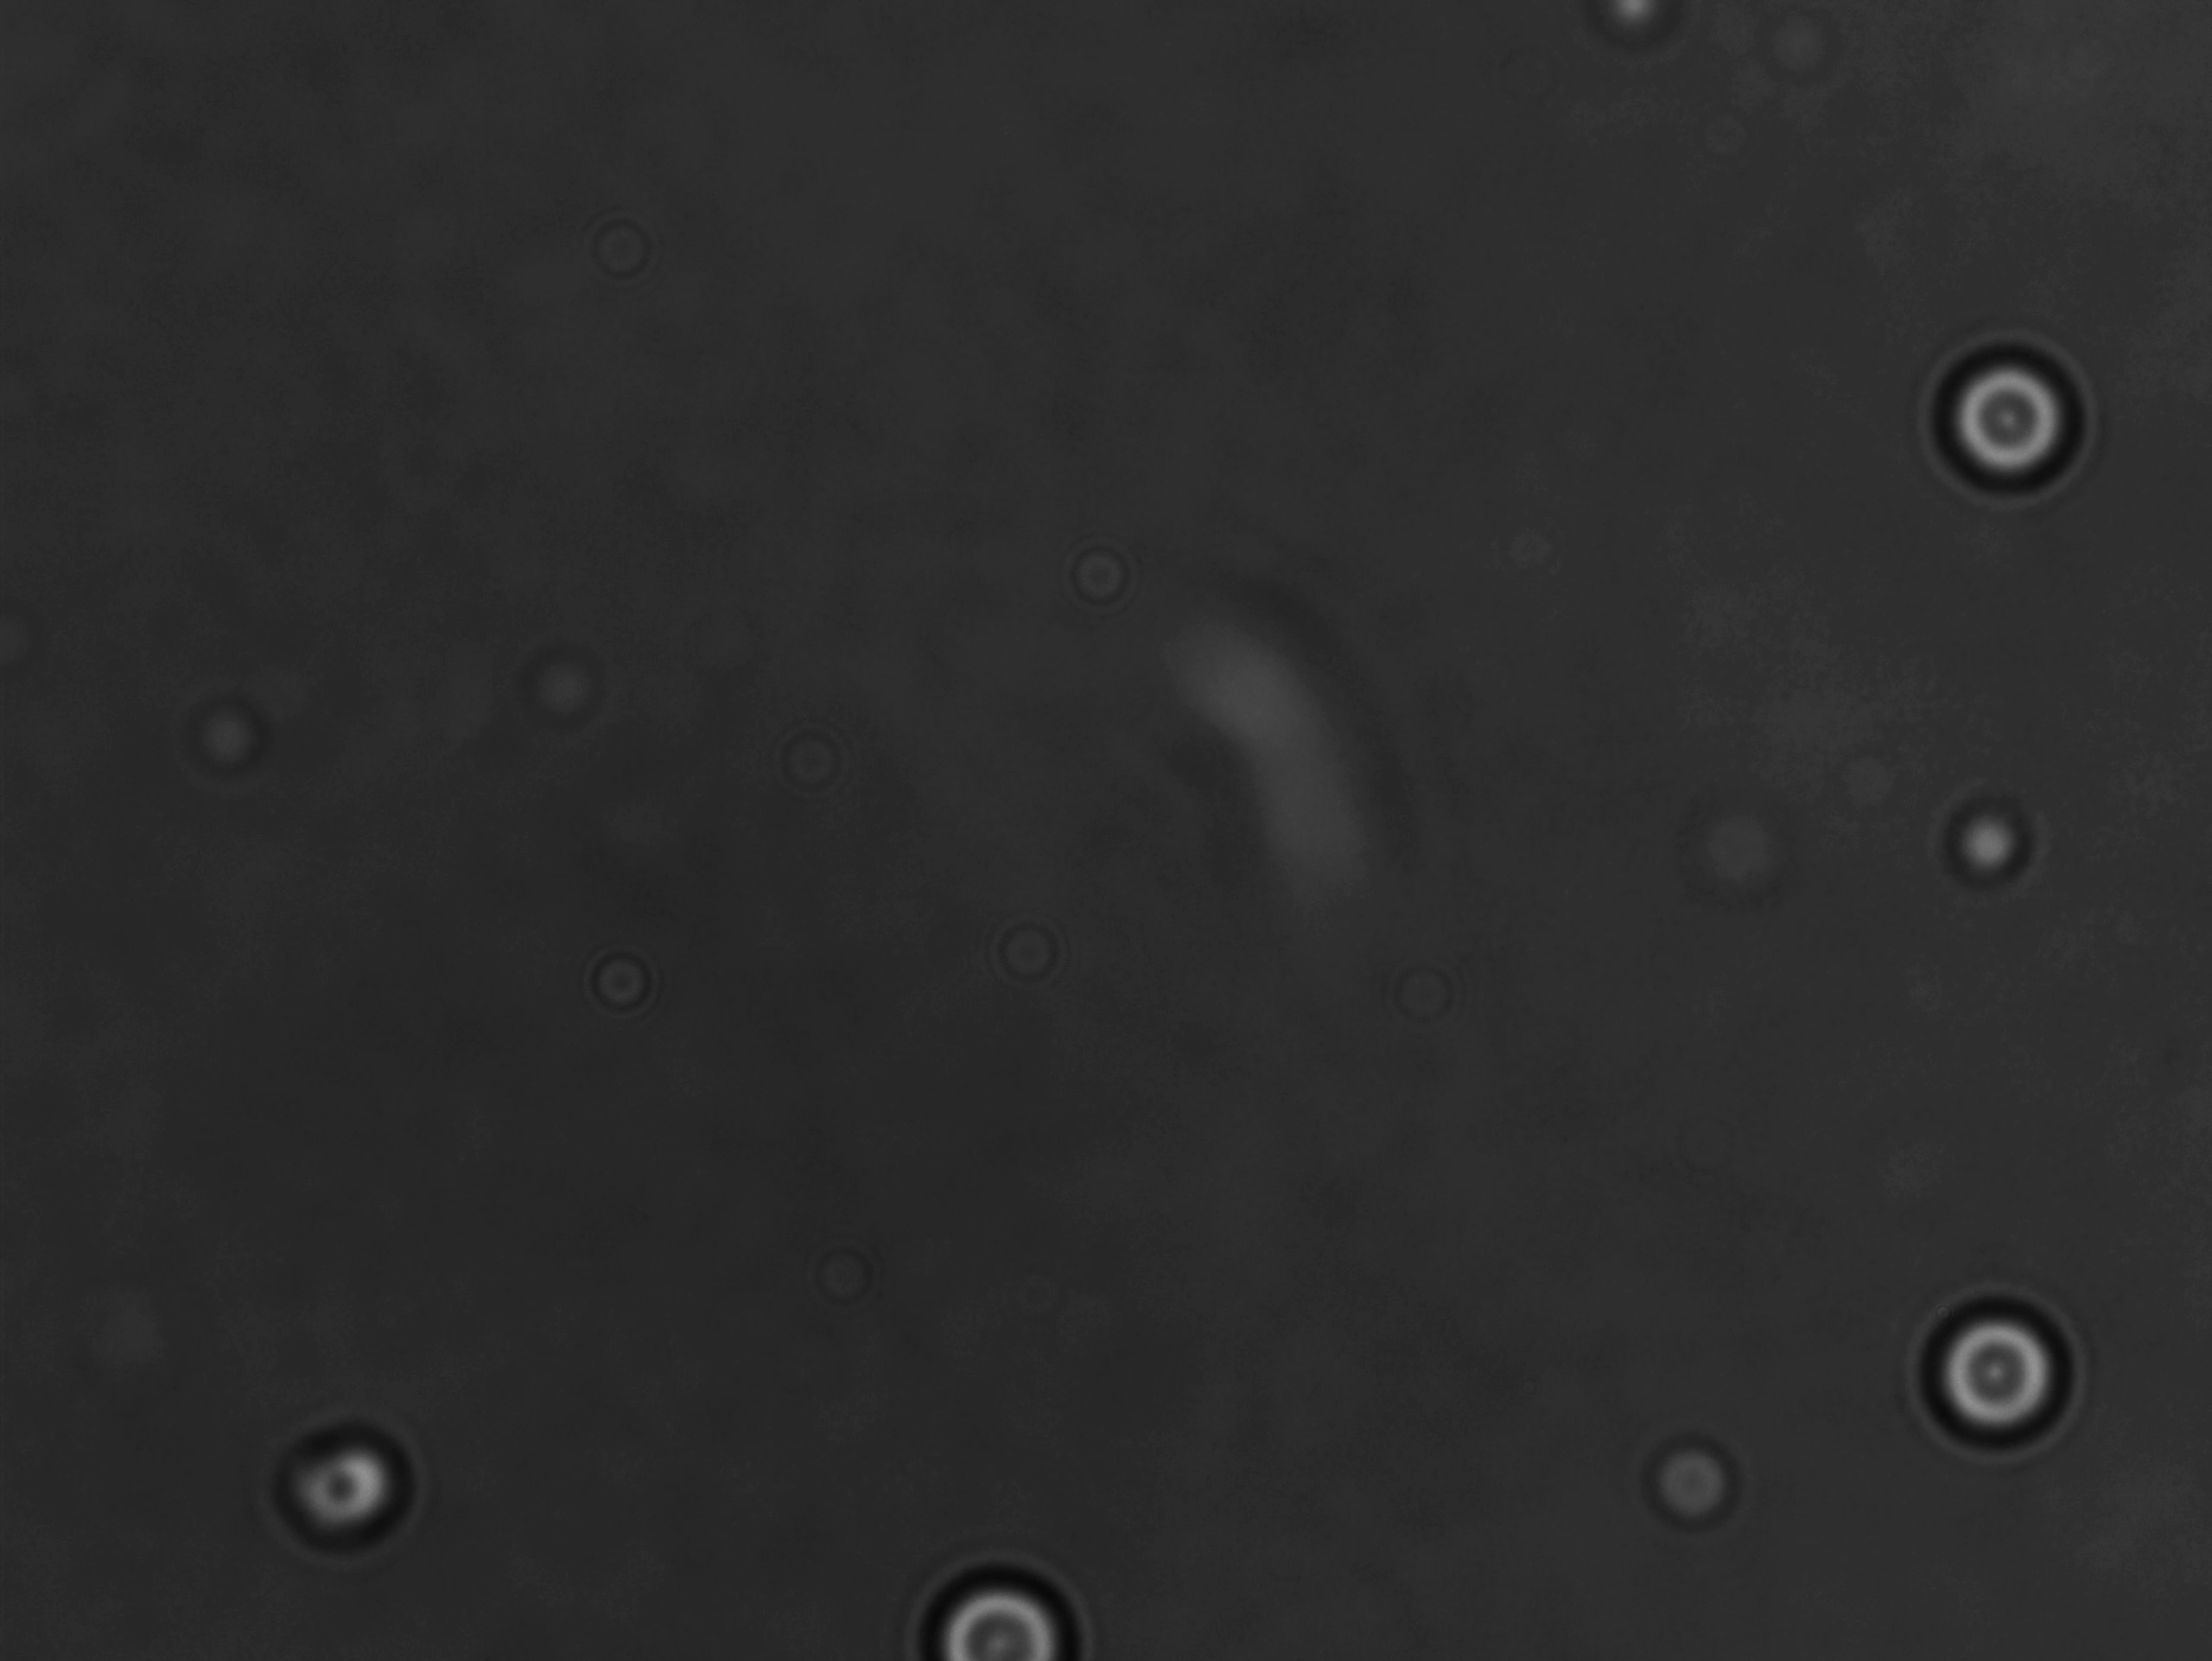depth:40: (1915, 344, 2097, 515), (1905, 1286, 2085, 1450), (883, 1548, 1099, 1661)
